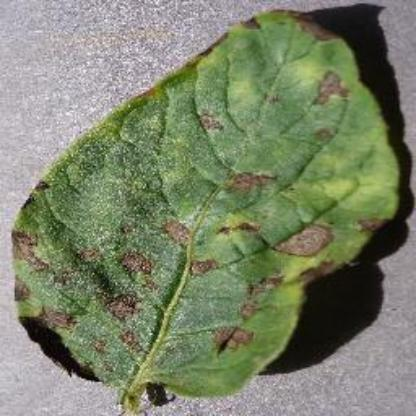Early-Blight: (9, 10, 402, 410)
